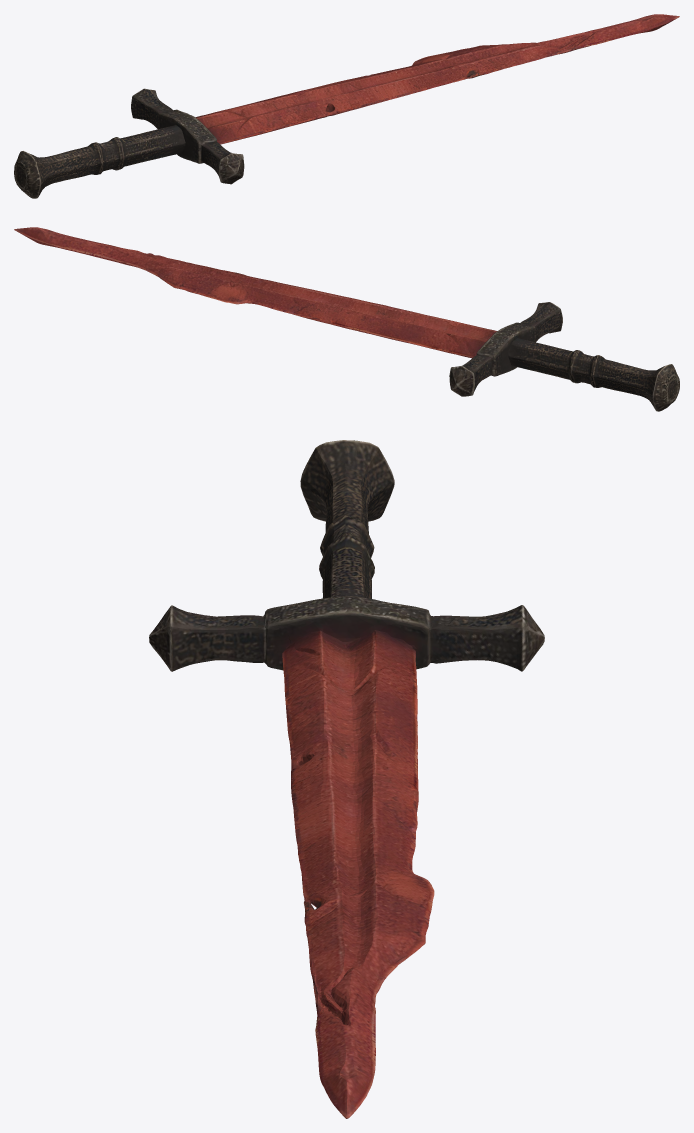
The model's file is tripo_convert_5894655c-0853-4ba3-b623-b22534090439.obj.
3 views of the same model, one above another, from view 1: azimuth 30°, elevation 25°; view 2: azimuth 150°, elevation 25°; view 3: azimuth 270°, elevation 25° (orthographic). The views are drawn at different scales.
Parts seen in each view (by area): view 1: o_tripo_node_5894655c-0853-4ba3-b623-b22534090439; view 2: o_tripo_node_5894655c-0853-4ba3-b623-b22534090439; view 3: o_tripo_node_5894655c-0853-4ba3-b623-b22534090439.
Part boxes in pixels (bbox=[...]): o_tripo_node_5894655c-0853-4ba3-b623-b22534090439: bbox=[14, 14, 679, 198]; o_tripo_node_5894655c-0853-4ba3-b623-b22534090439: bbox=[14, 227, 679, 411]; o_tripo_node_5894655c-0853-4ba3-b623-b22534090439: bbox=[149, 440, 544, 1118].
Bounding box in the file's own units: 1 × 0.062 × 0.2601.
1 material, 1 textured.
